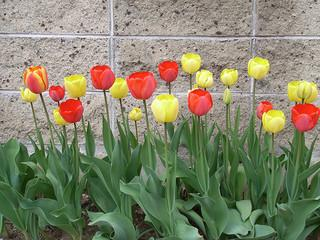tulip: (126, 71, 157, 99), (152, 93, 179, 123), (290, 103, 319, 130), (89, 63, 115, 92), (288, 79, 318, 104), (24, 65, 49, 93), (188, 88, 212, 117), (64, 74, 87, 98), (263, 110, 286, 133), (60, 99, 84, 120), (247, 56, 269, 78), (180, 52, 201, 73), (158, 60, 178, 82), (220, 67, 238, 84), (197, 70, 213, 89)
